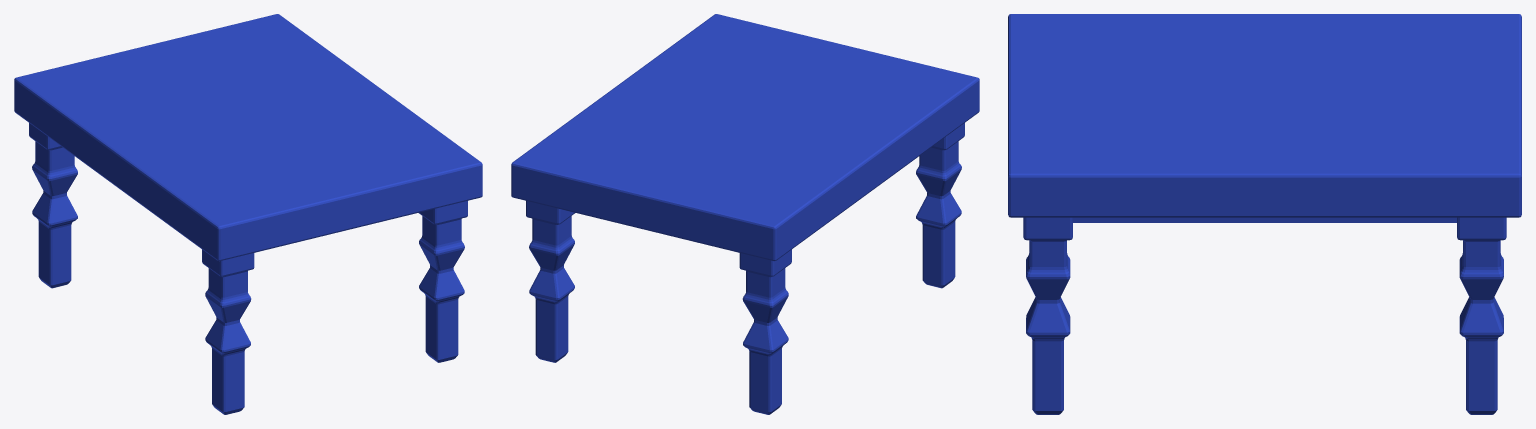
Rendered from MSH_table_rectangulaire.fbx.
The picture shows the model from 3 angles, left to right: view 1: azimuth 30°, elevation 25°; view 2: azimuth 150°, elevation 25°; view 3: azimuth 270°, elevation 25°; orthographic projection. The views are drawn at different scales.
Parts seen in each view (by area): view 1: table_rectangulaire_low; view 2: table_rectangulaire_low; view 3: table_rectangulaire_low.
Boxes of the visible parts, left/top/right/bottom form: table_rectangulaire_low: left=14, top=14, right=482, bottom=414; table_rectangulaire_low: left=511, top=14, right=979, bottom=414; table_rectangulaire_low: left=1008, top=14, right=1521, bottom=414.
Bounding box in the file's own units: 154 × 112 × 207.
